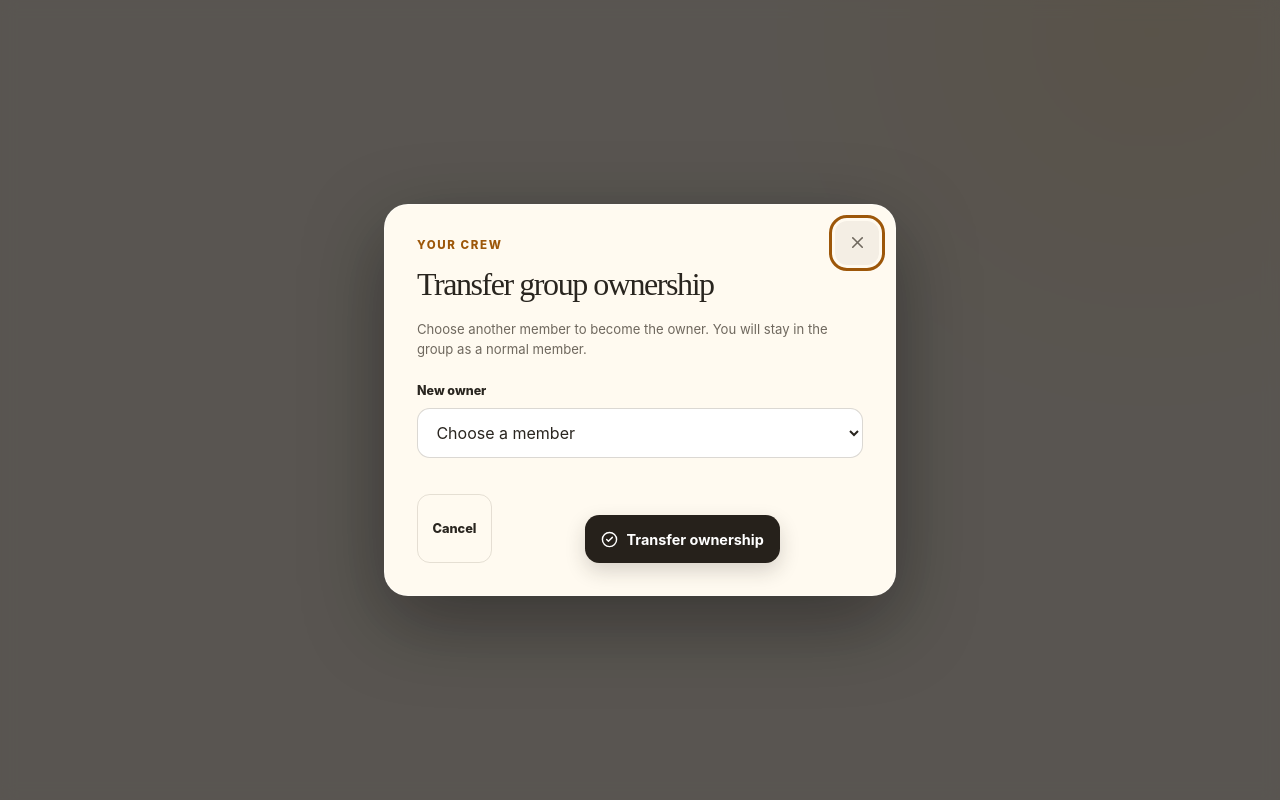
Test: TransferOwnershipDialog › requires a new owner to be selected before transferring
Click the button "Transfer ownership": x=683, y=540 [586,516,780,564]
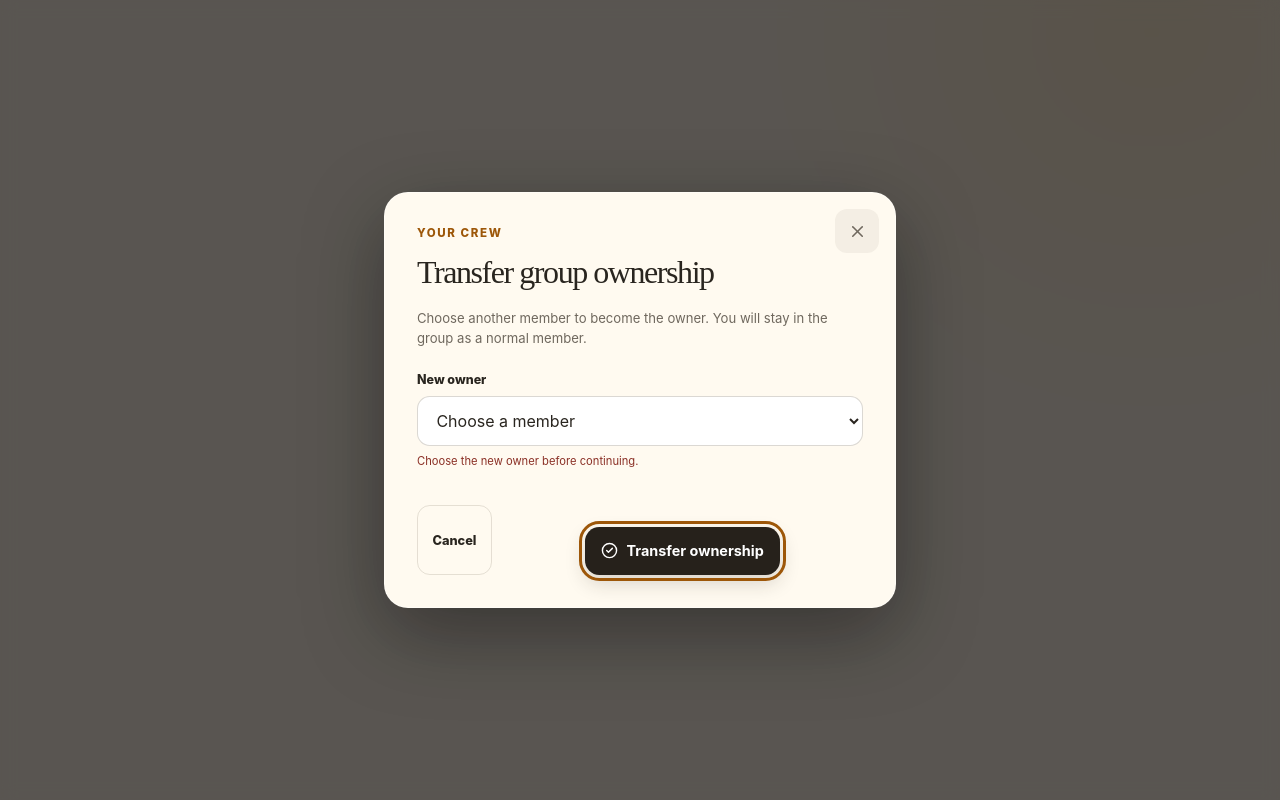
expect the text "Choose the new owner before continuing." is shown: met, box [417,454,638,468]
